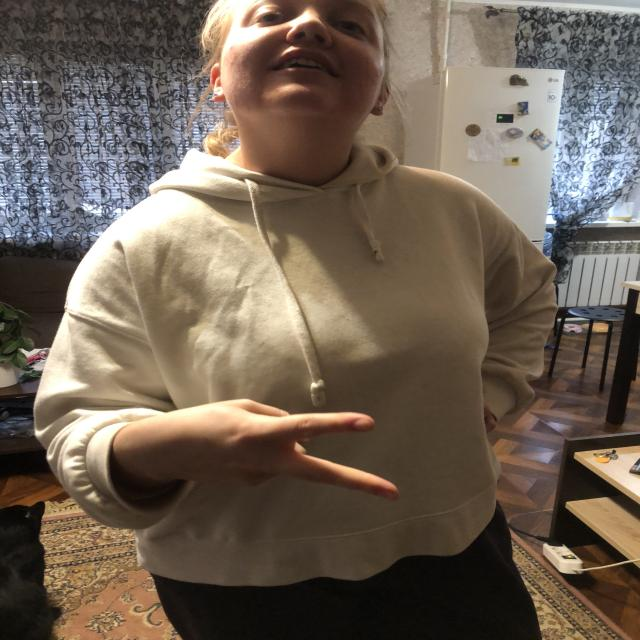scissors: (167, 398, 401, 506)
